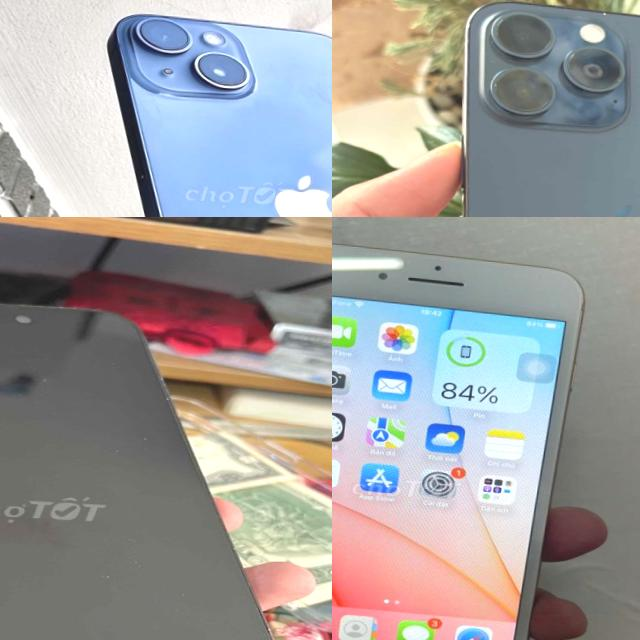gen_14: (0, 289, 315, 640), (86, 0, 332, 217)
gen_15: (417, 0, 640, 217)
gen_7_8: (332, 229, 596, 640)
scratch: (0, 292, 106, 319), (138, 426, 151, 446), (31, 374, 47, 389)
